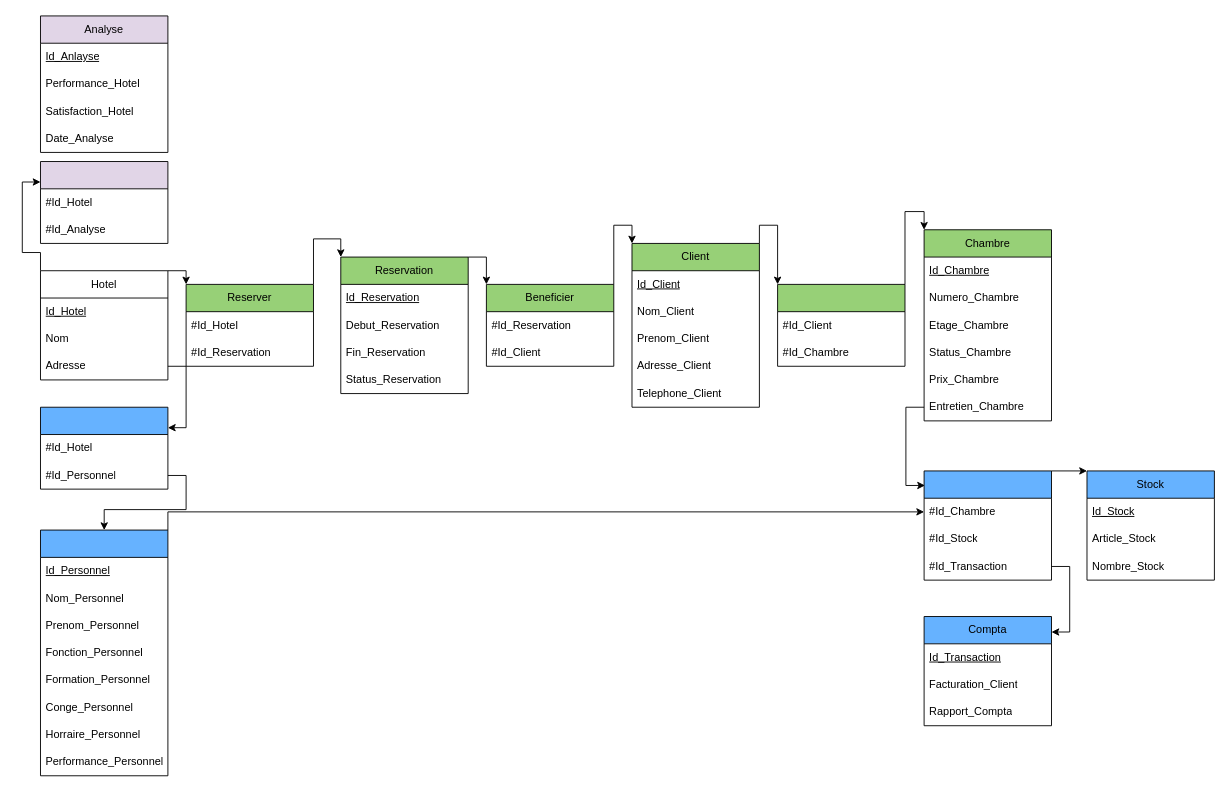
This 1230x792 diagram has some shape labels left out. The box of each missing label's shape, as (x1, y1, x2, y2) in pixels:
Gere: (923, 470, 1052, 580)
List: (40, 529, 168, 776)
Occuper: (777, 283, 905, 366)
Resultat: (40, 161, 168, 243)
Travail: (40, 406, 168, 489)
